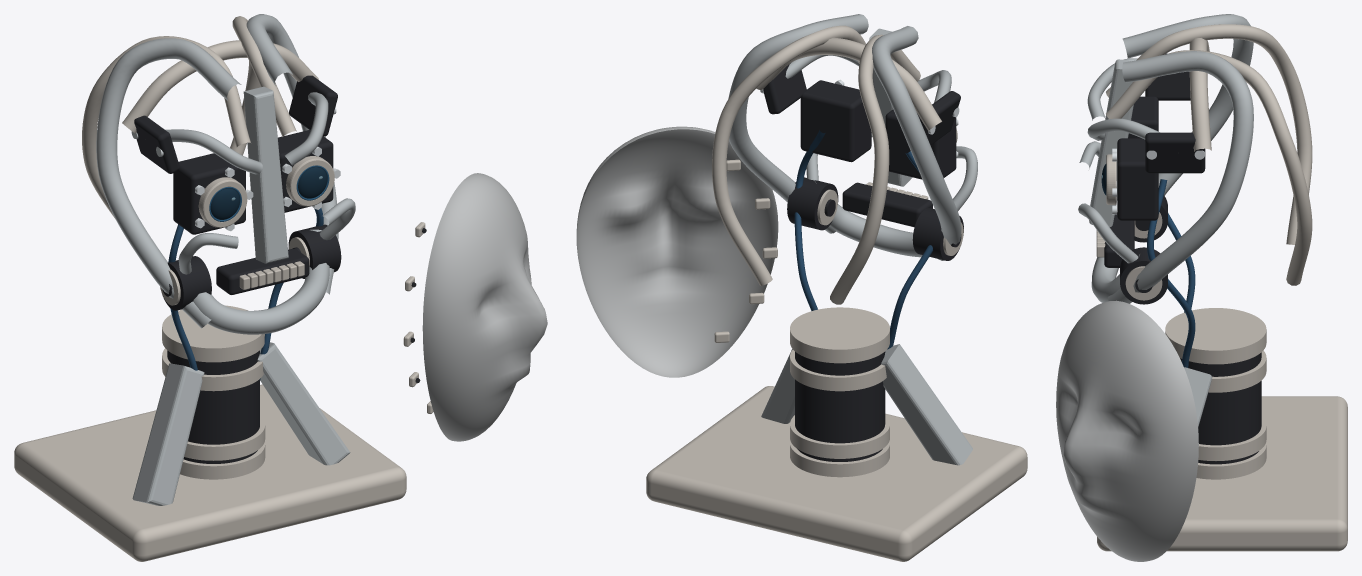
File: anatomy-01.glb
3 renders of one model, left to right at view 1: azimuth 30°, elevation 25°; view 2: azimuth 150°, elevation 25°; view 3: azimuth 270°, elevation 25°, orthographic. The views are drawn at different scales.
Parts seen in each view (by area): view 1: base, cage, mask, neck, jaw, mounts, eyes, gears, skull-panels, leads; view 2: mask, base, cage, neck, mounts, jaw, gears, skull-panels, leads, mask-mounts; view 3: mask, cage, base, neck, mounts, skull-panels, gears, jaw, leads, eyes.
Part boxes in pixels (<box>): base: <box>14,384,406,561</box>; cage: <box>82,14,355,328</box>; mask: <box>422,173,547,441</box>; neck: <box>132,305,350,505</box>; jaw: <box>193,229,329,334</box>; mounts: <box>173,129,340,234</box>; eyes: <box>198,156,334,227</box>; gears: <box>160,224,341,310</box>; skull-panels: <box>131,75,337,173</box>; leads: <box>168,208,323,380</box>; mask: <box>576,126,778,377</box>; base: <box>646,386,1027,561</box>; cage: <box>712,14,977,304</box>; neck: <box>761,307,972,477</box>; mounts: <box>800,79,958,179</box>; jaw: <box>814,180,932,257</box>; gears: <box>787,177,963,260</box>; skull-panels: <box>760,63,960,145</box>; leads: <box>794,130,939,349</box>; mask-mounts: <box>714,159,777,342</box>; mask: <box>1056,300,1198,561</box>; cage: <box>1078,14,1312,303</box>; base: <box>1097,396,1347,551</box>; neck: <box>1165,308,1266,479</box>; mounts: <box>1112,96,1158,220</box>; skull-panels: <box>1145,53,1205,173</box>; gears: <box>1120,195,1167,304</box>; jaw: <box>1091,212,1139,302</box>; leads: <box>1147,179,1195,367</box>; eyes: <box>1101,154,1116,204</box>.
Size of the model in its own units: 2.22 by 2.32 by 1.35.
